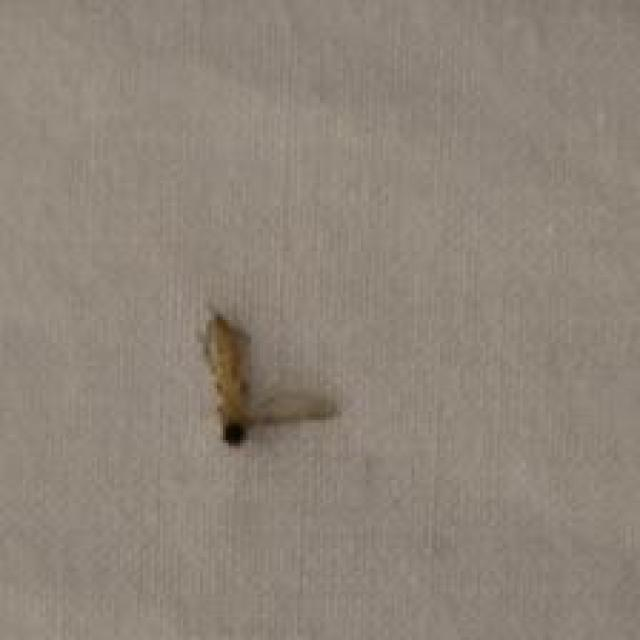Culex: (202, 310, 338, 447)
